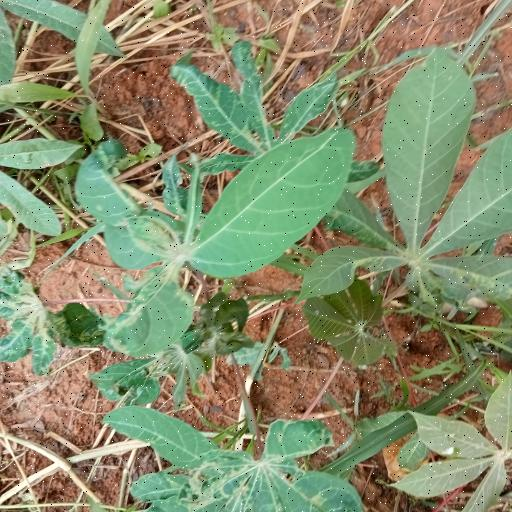Cassava_Mosaic: (93, 126, 353, 350), (106, 405, 362, 512)
